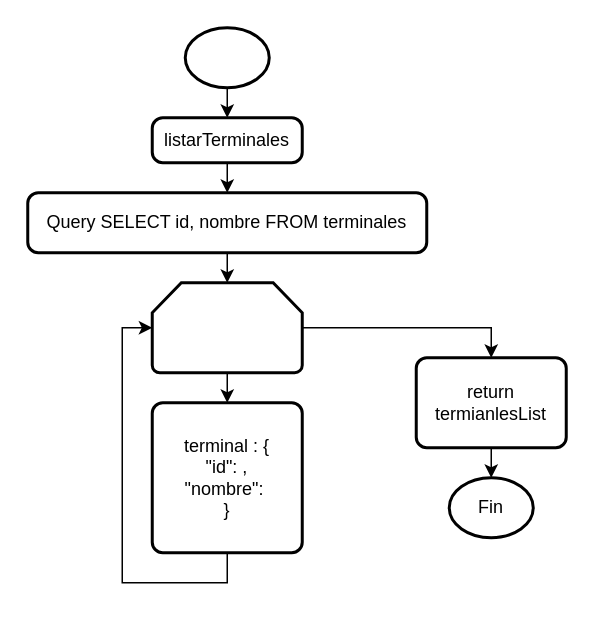
The diagram is 593 pixels wide and 621 high, and some of its shapes have lost their labels. Each missing label, with the centre of its shape:
Inicio: the point at 226,57
while tracker.read(): the point at 226,327
